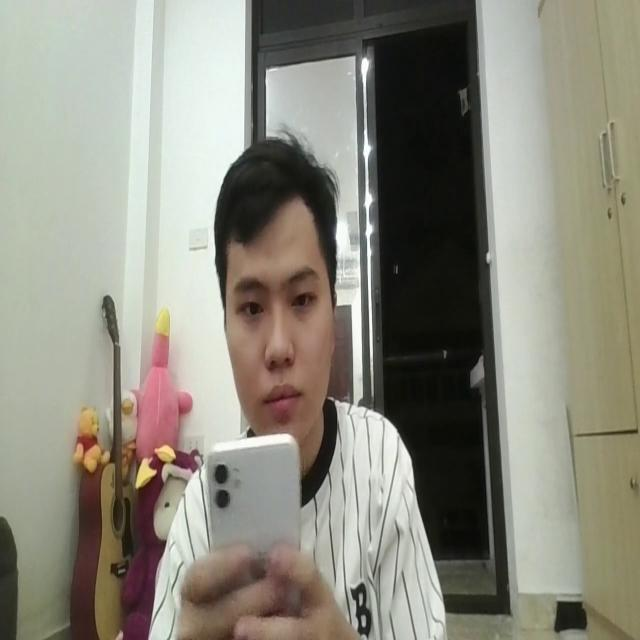phone: (204, 428, 307, 604)
student: (151, 135, 447, 640)
